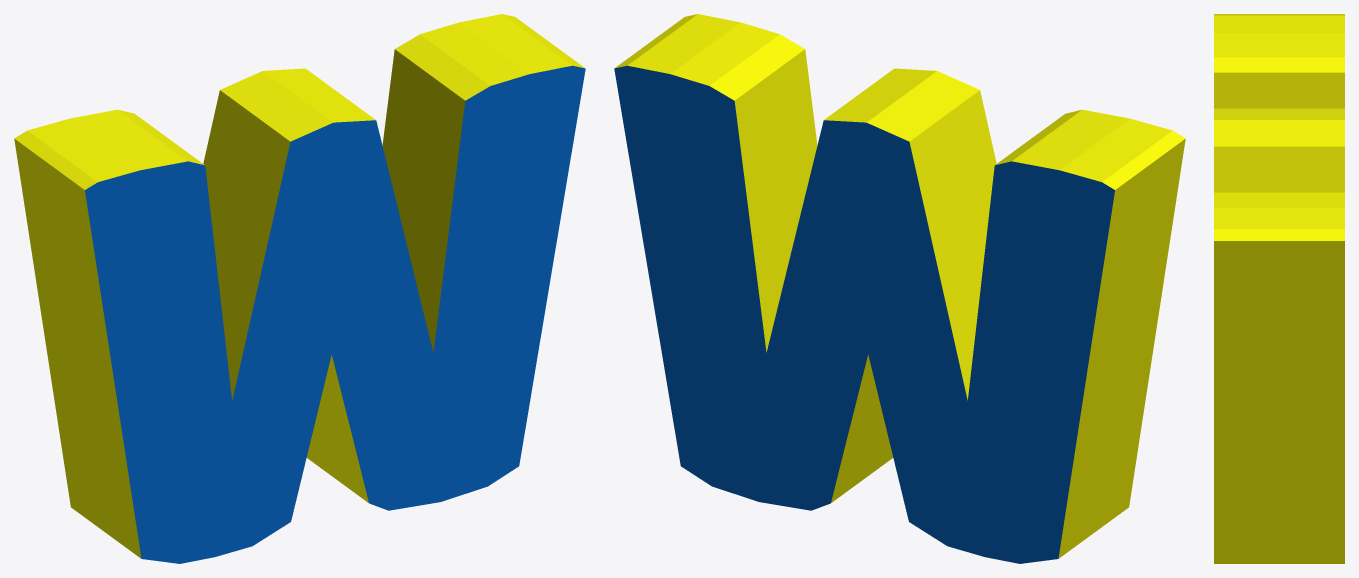
3 views of the same model, side by side, from view 1: azimuth 30°, elevation 25°; view 2: azimuth 150°, elevation 25°; view 3: azimuth 270°, elevation 25° (orthographic). The views are drawn at different scales.
Parts seen in each view (by area): view 1: text: ABCDEFGHIJKLMNOPQRSTUVWXYZ01234567891_sep23_blue, text: ABCDEFGHIJKLMNOPQRSTUVWXYZ01234567891_sep23_yellow; view 2: text: ABCDEFGHIJKLMNOPQRSTUVWXYZ01234567891_sep23_blue, text: ABCDEFGHIJKLMNOPQRSTUVWXYZ01234567891_sep23_yellow; view 3: text: ABCDEFGHIJKLMNOPQRSTUVWXYZ01234567891_sep23_yellow.
Part boxes in pixels (left/top/right/bottom): text: ABCDEFGHIJKLMNOPQRSTUVWXYZ01234567891_sep23_blue: left=85, top=65, right=585, bottom=563; text: ABCDEFGHIJKLMNOPQRSTUVWXYZ01234567891_sep23_yellow: left=14, top=14, right=584, bottom=558; text: ABCDEFGHIJKLMNOPQRSTUVWXYZ01234567891_sep23_blue: left=614, top=65, right=1114, bottom=563; text: ABCDEFGHIJKLMNOPQRSTUVWXYZ01234567891_sep23_yellow: left=615, top=14, right=1185, bottom=558; text: ABCDEFGHIJKLMNOPQRSTUVWXYZ01234567891_sep23_yellow: left=1214, top=14, right=1344, bottom=563.
Size of the model in its own units: 102 by 79.33 by 25.
